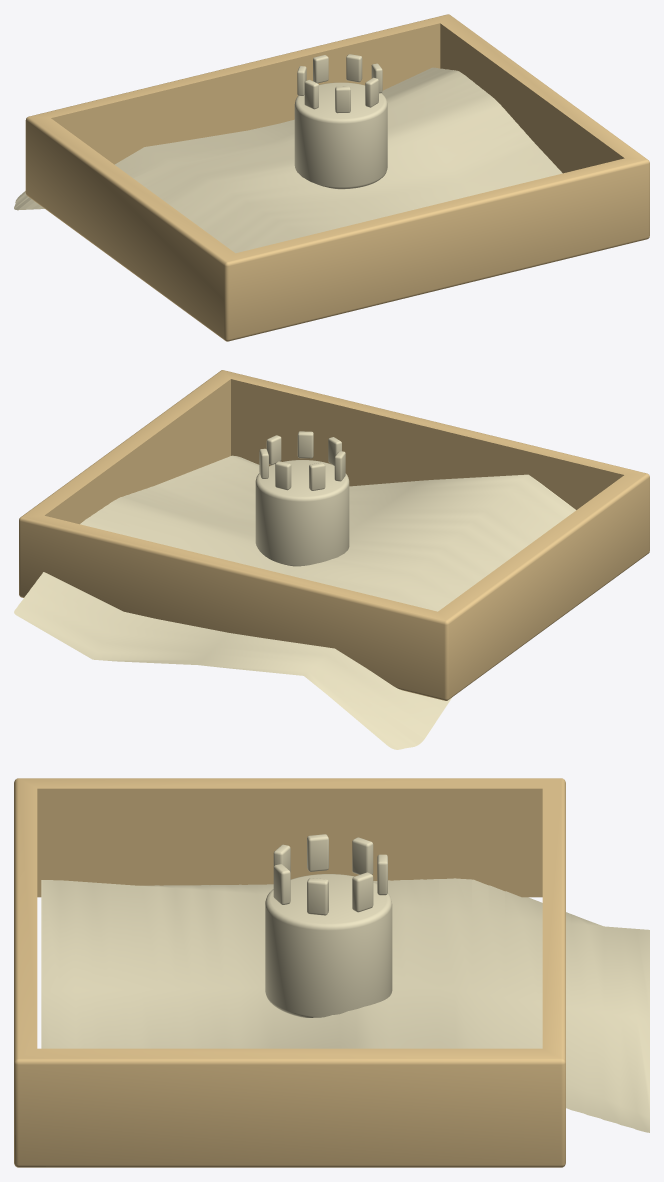
Rendered from sandbox.gltf.
3 renders of one model, top to bottom at view 1: azimuth 30°, elevation 25°; view 2: azimuth 150°, elevation 25°; view 3: azimuth 270°, elevation 25°, orthographic. The views are drawn at different scales.
Parts seen in each view (by area): view 1: Cube.4, Relief, Cube.5, Cylinder; view 2: Cube.4, Relief, Cube.5, Cylinder; view 3: Cube.4, Relief, Cube.5, Cylinder, Cube.4 5, Cube.4 2, Cube.4 1, Cube.4 6, Cube.4 3.
Boxes of the visible parts, box(x1,y1,x2,y2) form: Cube.4: box(25, 14, 649, 341); Relief: box(14, 67, 562, 253); Cube.5: box(51, 23, 624, 173); Cylinder: box(294, 82, 387, 189); Cube.4: box(19, 370, 649, 700); Relief: box(14, 455, 575, 749); Cube.5: box(45, 379, 623, 524); Cylinder: box(255, 460, 349, 566); Cube.4: box(14, 778, 565, 1167); Relief: box(41, 878, 649, 1132); Cube.5: box(37, 788, 542, 897); Cylinder: box(265, 874, 392, 1017); Cube.4 5: box(307, 834, 328, 871); Cube.4 2: box(307, 878, 328, 915); Cube.4 1: box(352, 872, 373, 912); Cube.4 6: box(352, 837, 373, 874); Cube.4 3: box(273, 864, 290, 904).
Size of the model in its own units: 72.5 by 26.46 by 68.61.
